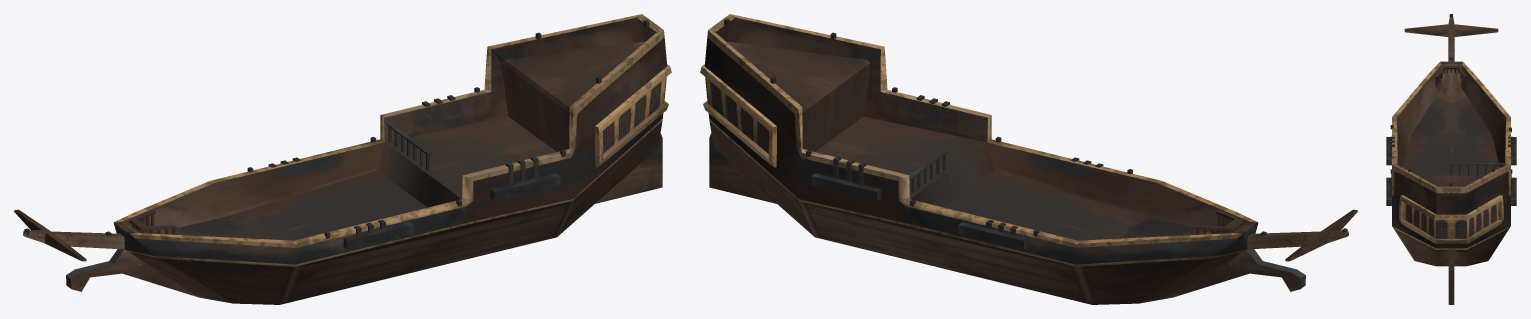
The model's file is M_hune_7.fbx.
The picture shows the model from 3 angles, left to right: view 1: azimuth 30°, elevation 25°; view 2: azimuth 150°, elevation 25°; view 3: azimuth 270°, elevation 25°; orthographic projection. The views are drawn at different scales.
Visible parts, largest first — view 1: polySurface281; view 2: polySurface281; view 3: polySurface281.
Part boxes in pixels (x1,y1,x2,y2): polySurface281: [14, 14, 671, 304]; polySurface281: [700, 14, 1357, 304]; polySurface281: [1386, 14, 1516, 304].
Size of the model in its own units: 2171 by 551 by 558.
Materials: 1 (1 with a texture image).
